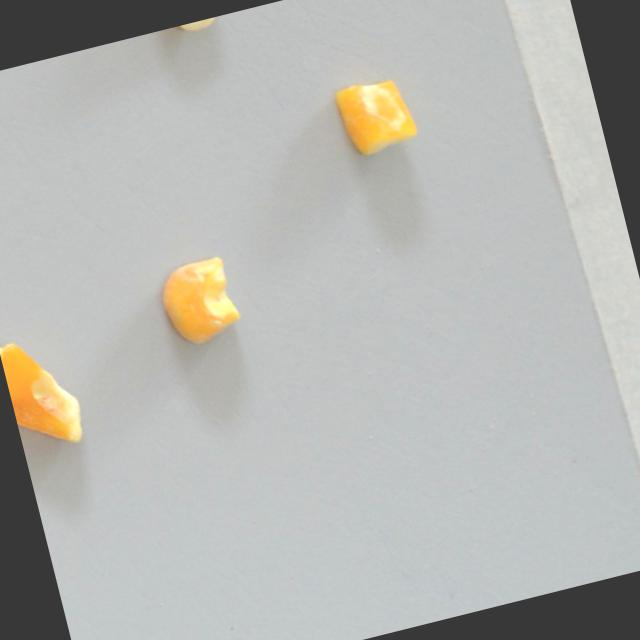pelicula: (325, 55, 426, 174), (148, 244, 248, 363), (0, 328, 91, 456)
